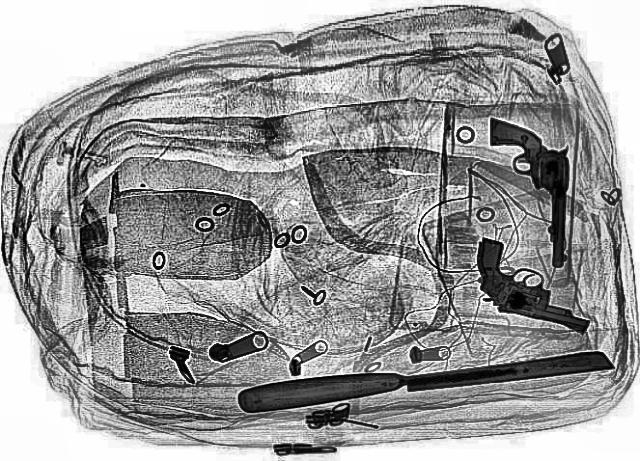Gun: (438, 234, 622, 338), (488, 118, 568, 266)
Knife: (234, 342, 616, 414)
